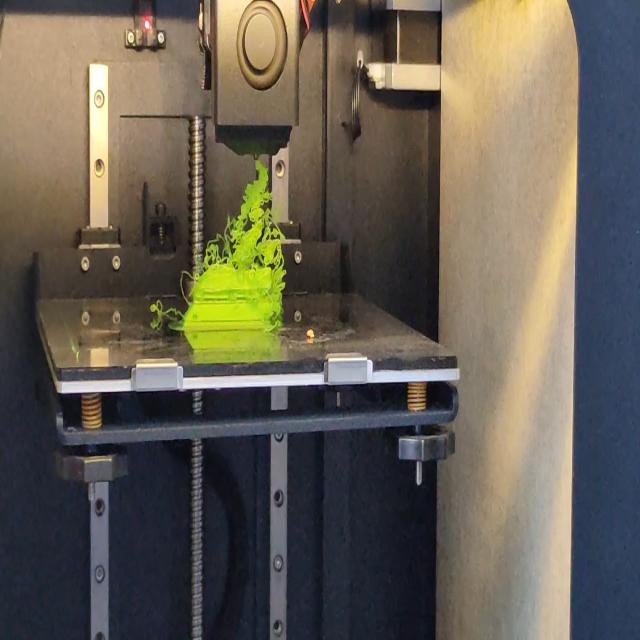spaghetti: (198, 158, 283, 278), (271, 276, 285, 334), (178, 266, 198, 306), (149, 299, 181, 321)
